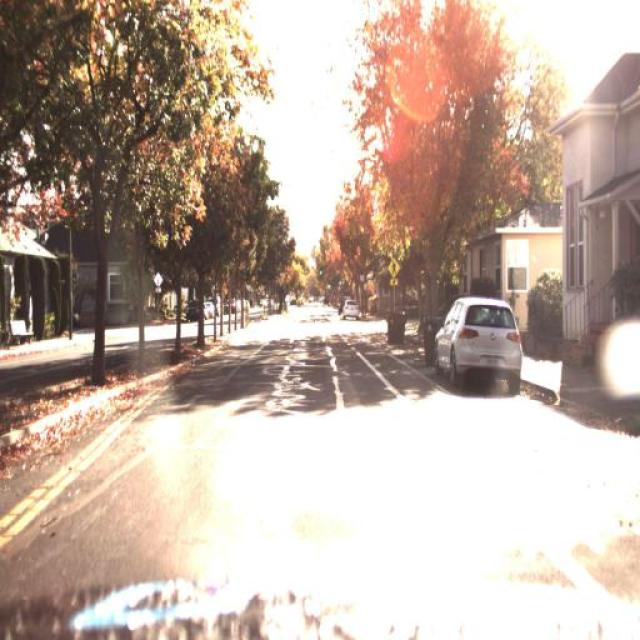car: (424, 296, 524, 392), (336, 296, 365, 328)
